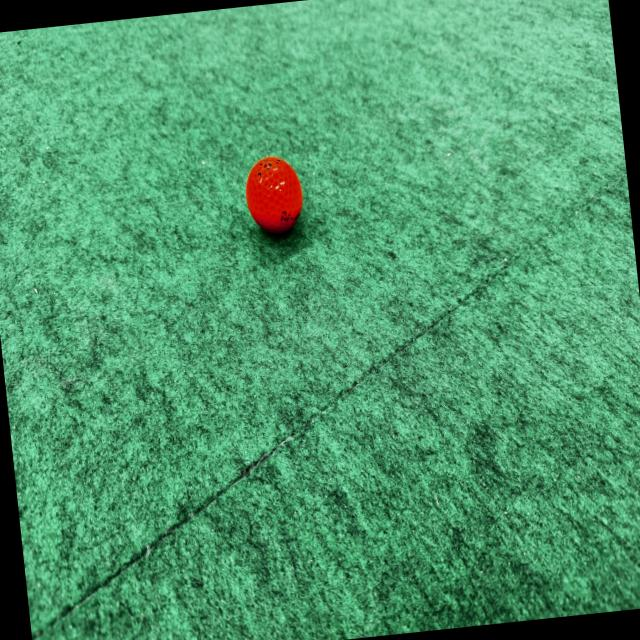ball: (238, 147, 316, 244)
